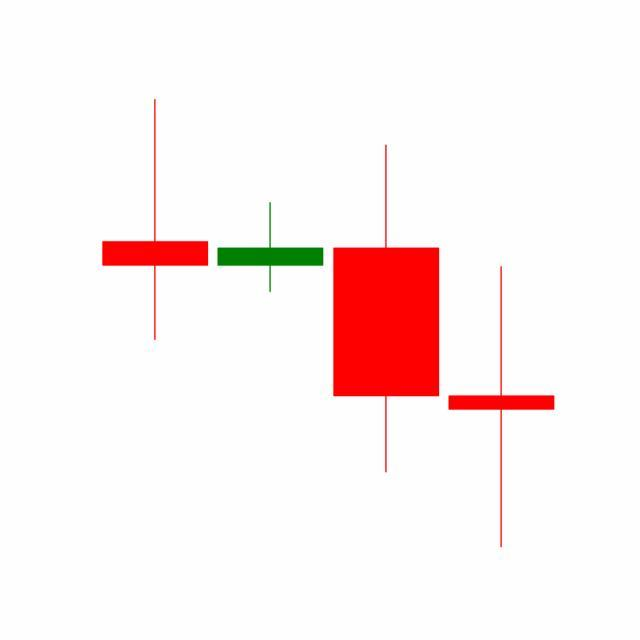Spinning Top: (444, 264, 560, 552)
